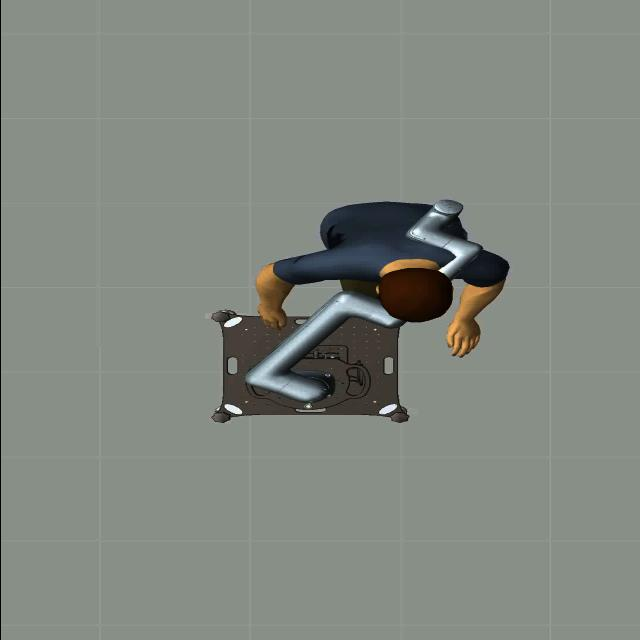human: (250, 200, 550, 364)
robot: (238, 200, 508, 403)
